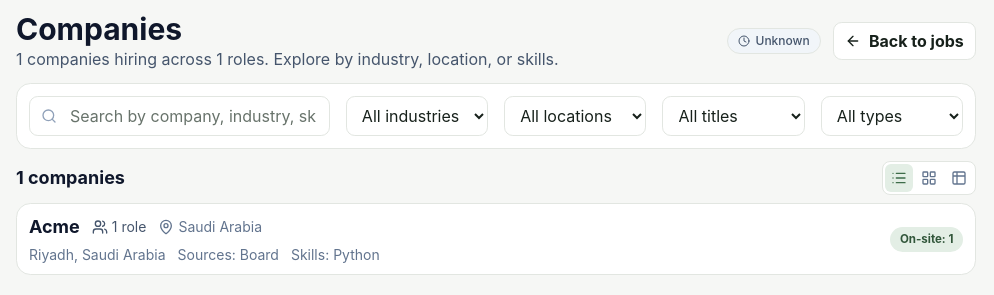
Test: CompaniesPage layouts › starts in the dense list layout and can switch to table
Expected: the element named "Company layout" is shown, [882,161,976,195]
Expected: the text "Sources: Board" is shown, [178,245,279,265]
Click the button named "Table view".
click(959, 178)  # box [945,164,973,192]
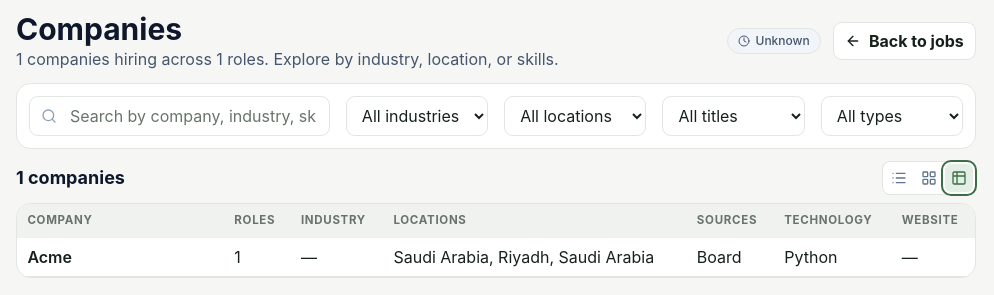
Expected: the table is shown, [17,204,975,277]
